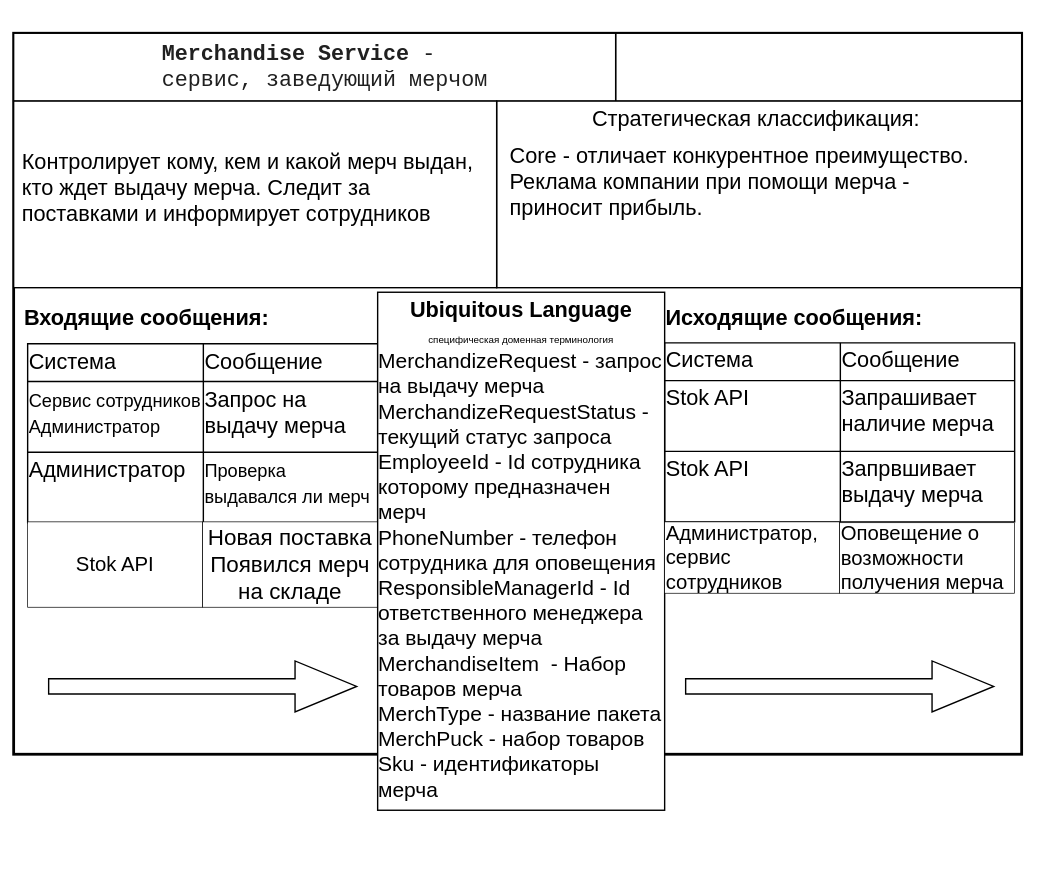
Some shapes in this 1047 by 893 pixel diagram are drawn without their labels. Each missing label, with the box of its shape:
Bouneded context canvas: (615, 32, 1022, 101)
Название:: (13, 32, 616, 101)
Описание:: (13, 100, 497, 288)
